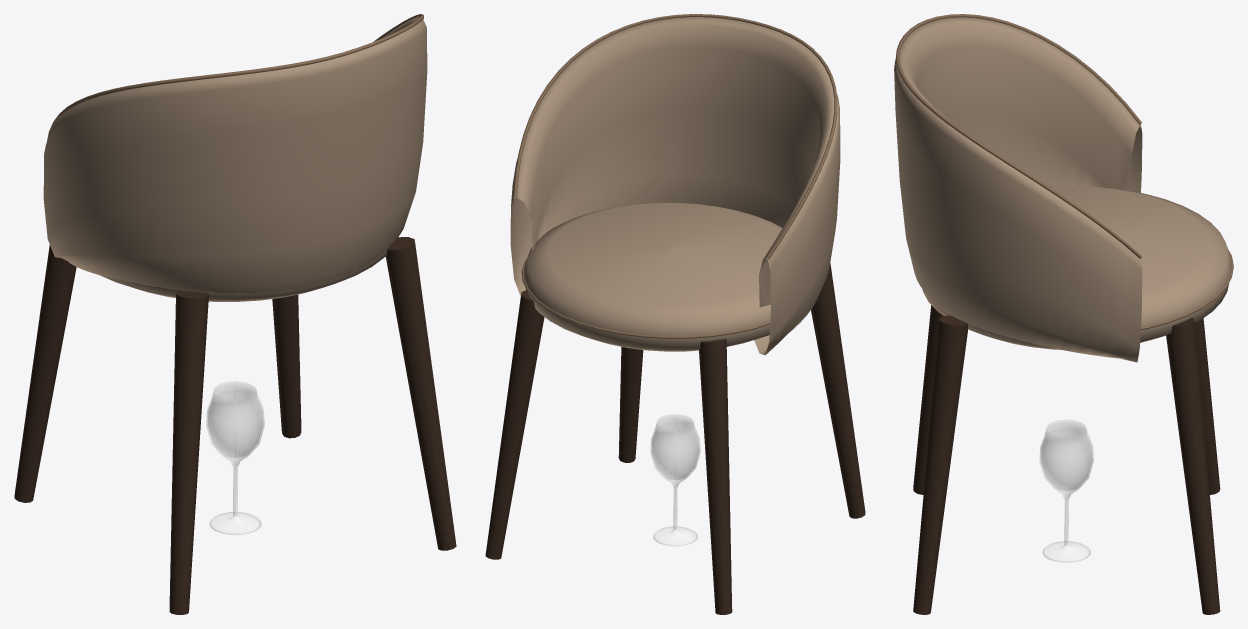
The model's file is dining-models.glb.
The picture shows the model from 3 angles, left to right: view 1: azimuth 30°, elevation 25°; view 2: azimuth 150°, elevation 25°; view 3: azimuth 270°, elevation 25°; orthographic projection. The views are drawn at different scales.
Parts seen in each view (by area): view 1: Wraparound upholstery, Cone, Cone.002, Cone.001, Crystal bowl, stem and foot, Cone.003, Upper piping, Seat cushion; view 2: Wraparound upholstery, Seat cushion, Cone.001, Cone.003, Cone, Crystal bowl, stem and foot, Upper piping, Cone.002, Cushion seam; view 3: Wraparound upholstery, Seat cushion, Cone.002, Cone.003, Crystal bowl, stem and foot, Upper piping, Cone, Cone.001.
Boxes of the visible parts, x1,y1,x2,y2 form: Wraparound upholstery: (43, 17, 427, 293); Cone: (169, 290, 208, 614); Cone.002: (385, 237, 456, 550); Cone.001: (14, 245, 76, 502); Crystal bowl, stem and foot: (206, 381, 264, 535); Cone.003: (272, 294, 301, 438); Upper piping: (47, 14, 423, 141); Seat cushion: (101, 236, 398, 301); Wraparound upholstery: (510, 17, 840, 355); Seat cushion: (523, 202, 782, 351); Cone.001: (699, 339, 732, 614); Cone.003: (485, 290, 544, 559); Cone: (811, 263, 865, 518); Crystal bowl, stem and foot: (650, 414, 700, 546); Upper piping: (513, 14, 837, 259); Cone.002: (618, 346, 643, 462); Cushion seam: (521, 258, 770, 338); Wraparound upholstery: (894, 17, 1142, 362); Seat cushion: (922, 186, 1231, 349); Cone.002: (913, 315, 967, 614); Cone.003: (1166, 317, 1220, 614); Crystal bowl, stem and foot: (1039, 419, 1093, 562); Upper piping: (895, 14, 1142, 258); Cone: (913, 305, 943, 494); Cone.001: (1194, 318, 1220, 494).
Bounding box in the file's own units: 0.5174 × 0.7868 × 0.4862.
